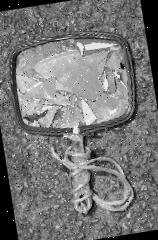glass: (9, 29, 137, 134)
